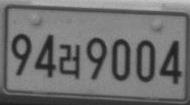0: (110, 37, 131, 81), (135, 38, 156, 82)
4: (158, 39, 183, 84), (34, 33, 56, 77)
9: (86, 36, 108, 80), (10, 33, 32, 75)
러: (59, 43, 80, 79)
